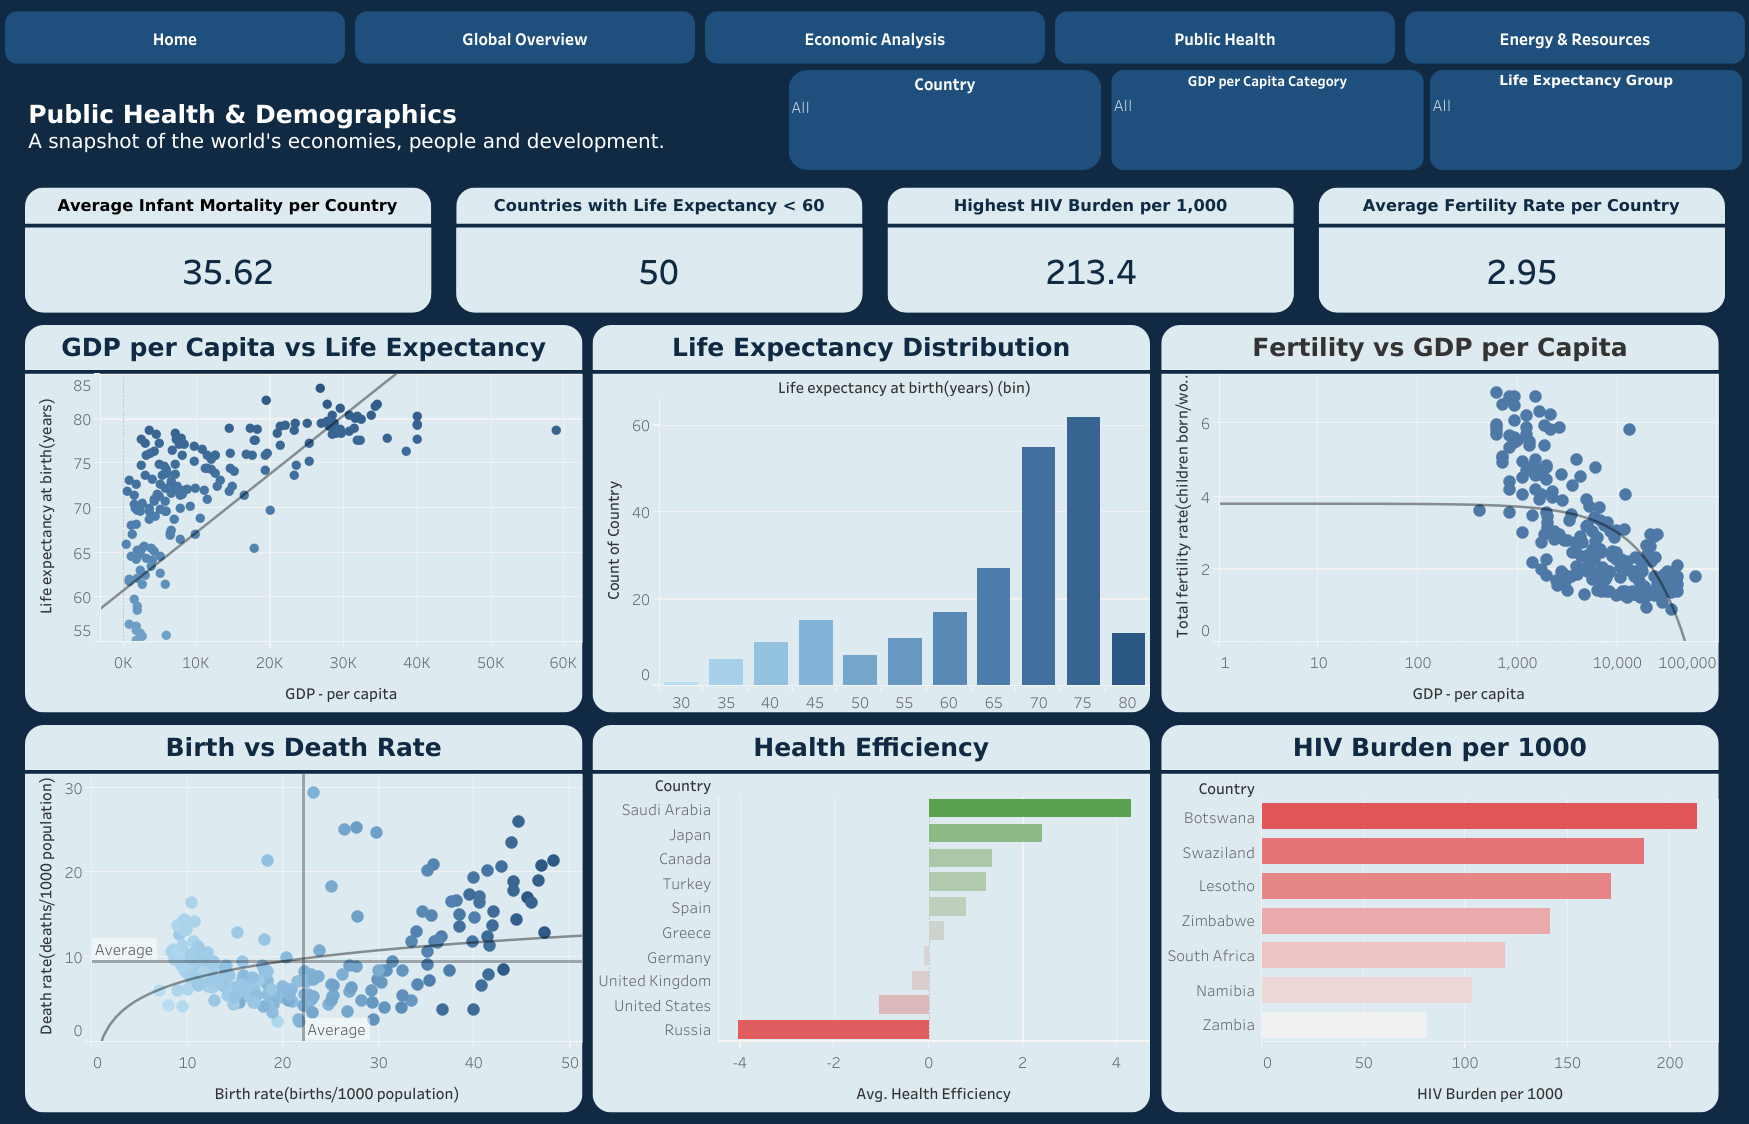

The page's visual inventory and layout, read from the dashboard file:
{"tool":"tableau","page":{"name":"Public Health & Demographics","canvas":[1400,900],"ordinal":4},"visuals":[{"type":"dashboard-object","box":[0,0,280,50]},{"type":"dashboard-object","box":[280,0,280,50]},{"type":"dashboard-object","box":[560,0,280,50]},{"type":"dashboard-object","box":[840,0,280,50]},{"type":"dashboard-object","box":[1120,0,280,50]},{"type":"filter","title":"GDP per Capita vs Life Expectancy","param":"[federated.10twyn71v79rwr1h9lt141yk2yql].[attr:Country:nk]","box":[631,56,250,80]},{"type":"filter","title":"GDP per Capita vs Life Expectancy","param":"[federated.10twyn71v79rwr1h9lt141yk2yql].[none:Calculation_1760923649921025:nk]","box":[889,56,250,80]},{"type":"filter","title":"GDP per Capita vs Life Expectancy","param":"[federated.10twyn71v79rwr1h9lt141yk2yql].[none:Calculation_1760923650158594:nk]","box":[1144,56,250,80]},{"type":"text","box":[20,60,730,80]},{"type":"worksheet","title":"Average Infant Mortality","mark":"Automatic","box":[20,160,325,100]},{"type":"worksheet","title":"Life Expectancy Below 60","mark":"Automatic","box":[365,160,325,100]},{"type":"worksheet","title":"Highest HIV Burden","mark":"Automatic","box":[710,160,325,100]},{"type":"worksheet","title":"Average Fertility Rate","mark":"Automatic","box":[1055,160,325,100]},{"type":"worksheet","title":"GDP per Capita vs Life Expectancy","mark":"Circle","rows":["Life expectancy at birth(years)"],"cols":["GDP - per capita"],"box":[20,270,446,310]},{"type":"worksheet","title":"Life Expectancy Distribution","mark":"Automatic","rows":["Country"],"cols":["Life expectancy at birth(years) (bin)"],"box":[474,270,446,310]},{"type":"worksheet","title":"Fertility vs GDP per Capita","mark":"Circle","rows":["Total fertility rate(children born/woman)"],"cols":["GDP - per capita"],"box":[929,270,446,310]},{"type":"worksheet","title":"Birth vs Death Rate","mark":"Circle","rows":["Death rate(deaths/1000 population)"],"cols":["Birth rate(births/1000 population)"],"box":[20,590,446,310]},{"type":"worksheet","title":"Health Efficiency","mark":"Automatic","rows":["Country"],"cols":["Calculation_0877743113367556"],"box":[474,590,446,310]},{"type":"worksheet","title":"HIV Burden per 1000","mark":"Automatic","rows":["Country"],"cols":["Calculation_0877743113498629"],"box":[929,590,446,310]}]}

Visuals, with their boxes in screenshot pixels (x1, y1, x2, y2), scaled from the page's 1400x900 canvas onto the 1749x1124 screenshot:
dashboard-object: (0,0,350,62)
dashboard-object: (350,0,700,62)
dashboard-object: (700,0,1049,62)
dashboard-object: (1049,0,1399,62)
dashboard-object: (1399,0,1748,62)
"GDP per Capita vs Life Expectancy" filter: (788,70,1101,170)
"GDP per Capita vs Life Expectancy" filter: (1111,70,1423,170)
"GDP per Capita vs Life Expectancy" filter: (1429,70,1742,170)
text: (25,75,937,175)
"Average Infant Mortality" worksheet: (25,200,431,325)
"Life Expectancy Below 60" worksheet: (456,200,862,325)
"Highest HIV Burden" worksheet: (887,200,1293,325)
"Average Fertility Rate" worksheet: (1318,200,1724,325)
"GDP per Capita vs Life Expectancy" worksheet (Circle marks): (25,337,582,724)
"Life Expectancy Distribution" worksheet: (592,337,1149,724)
"Fertility vs GDP per Capita" worksheet (Circle marks): (1161,337,1718,724)
"Birth vs Death Rate" worksheet (Circle marks): (25,737,582,1123)
"Health Efficiency" worksheet: (592,737,1149,1123)
"HIV Burden per 1000" worksheet: (1161,737,1718,1123)
